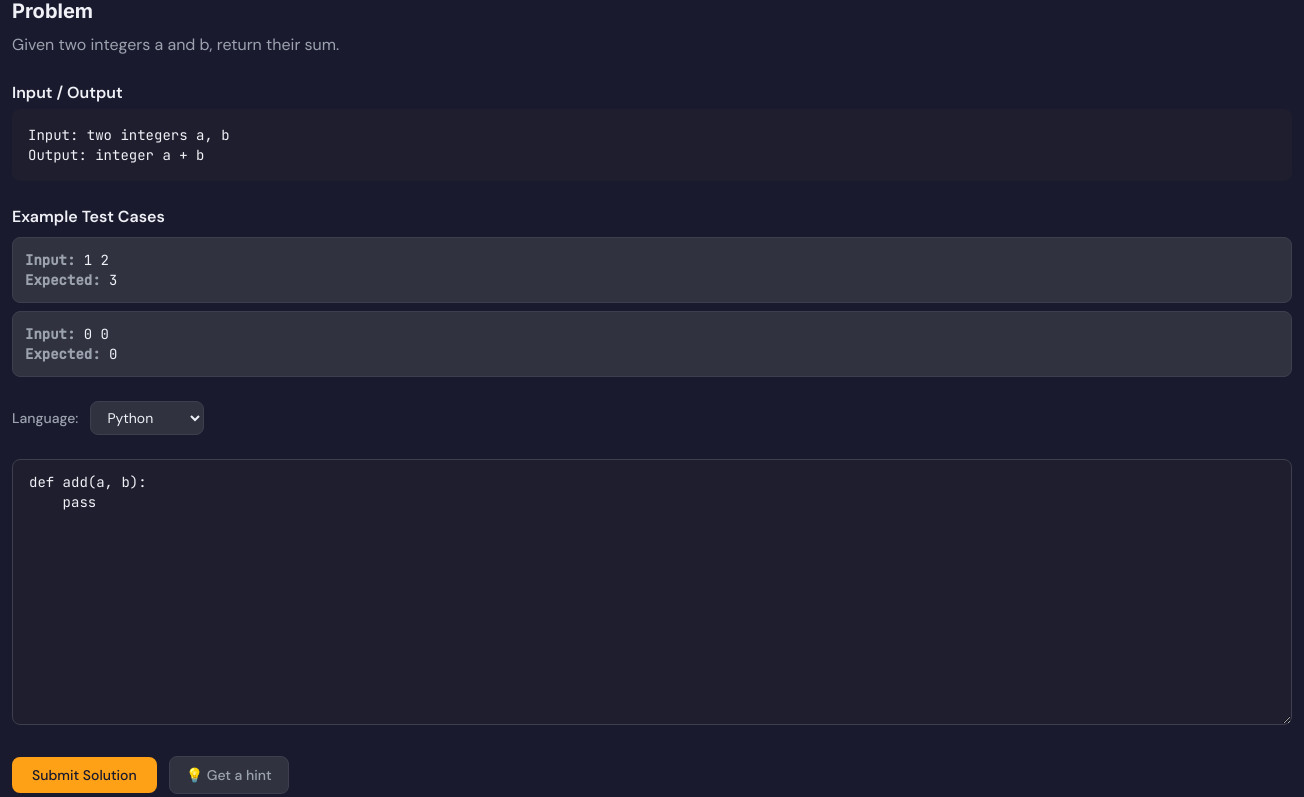
CodeChallenge › displays runtime error from result
Click the button labelled "Submit Solution" at coordinates (84, 775), box [12,757,157,793]
(page scrolled)
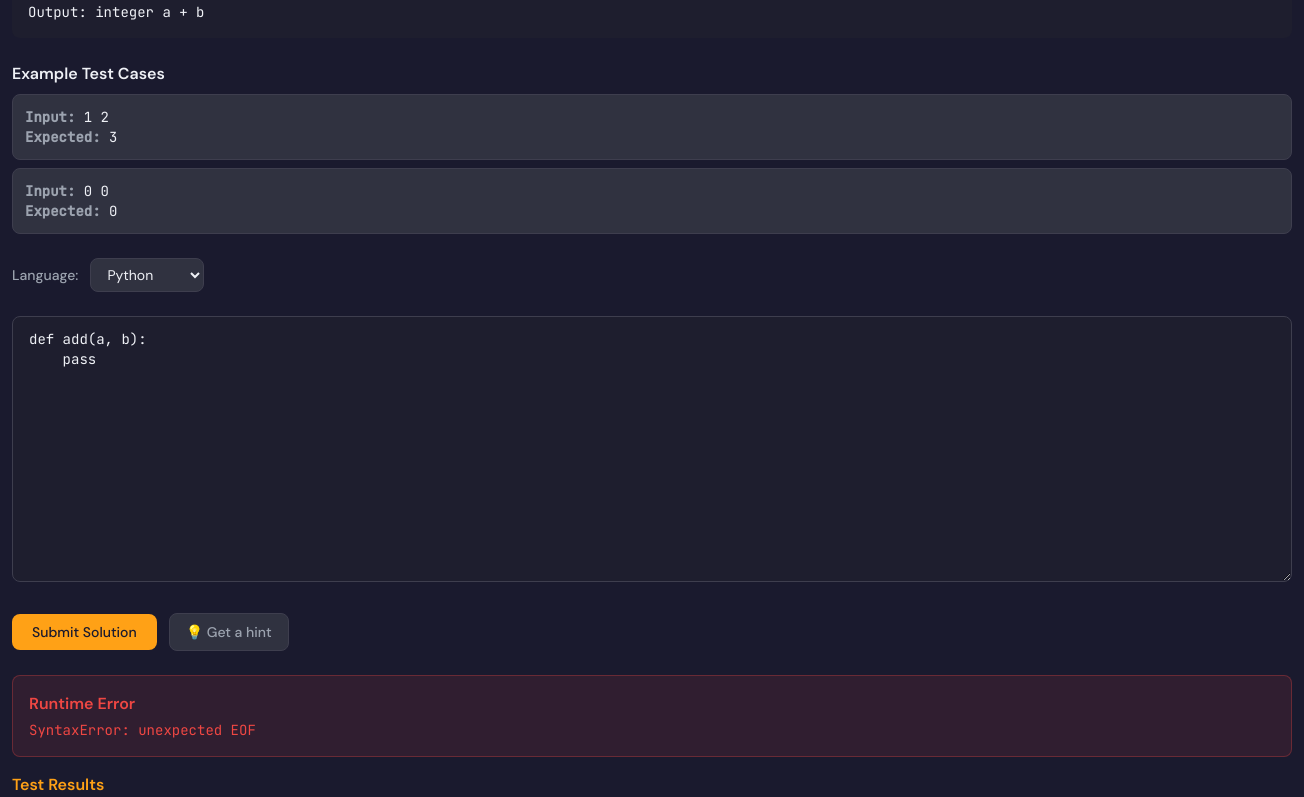
Now the text "Runtime Error" is shown, box [29,693,135,714]
Now the text "SyntaxError: unexpected EOF" is shown, box [29,721,256,739]
